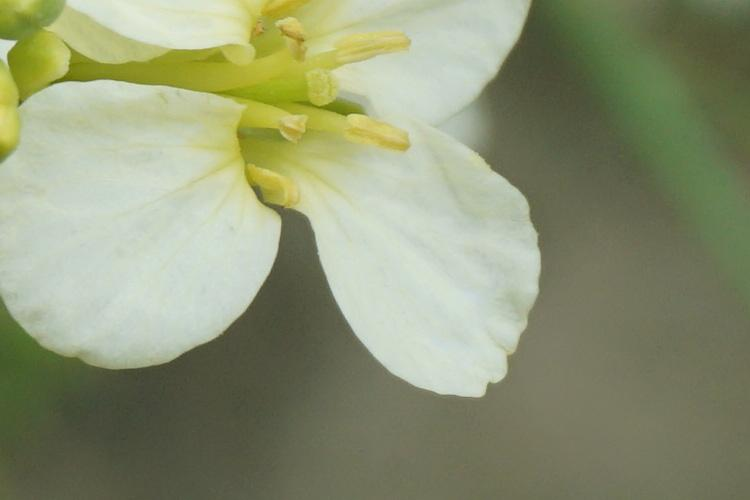bud: (1, 2, 68, 89)
white: (5, 4, 547, 395)
